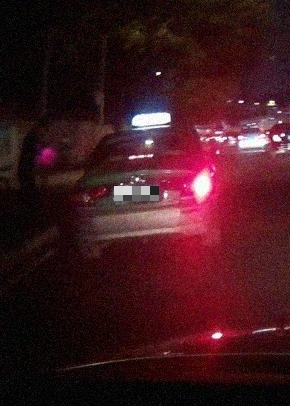L_light: (73, 182, 114, 206)
R_light: (166, 176, 212, 199)
T_light: (132, 133, 153, 137)
night-right: (70, 127, 215, 259)
plate_1: (114, 186, 159, 201)
